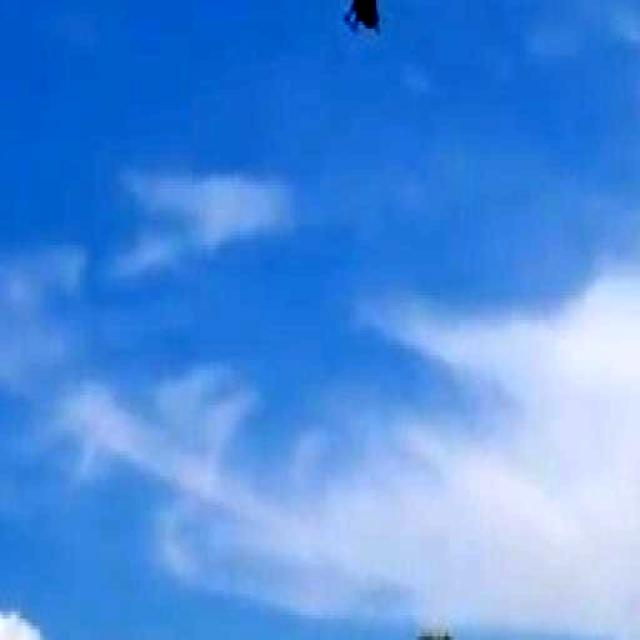drone: (295, 0, 430, 64)
